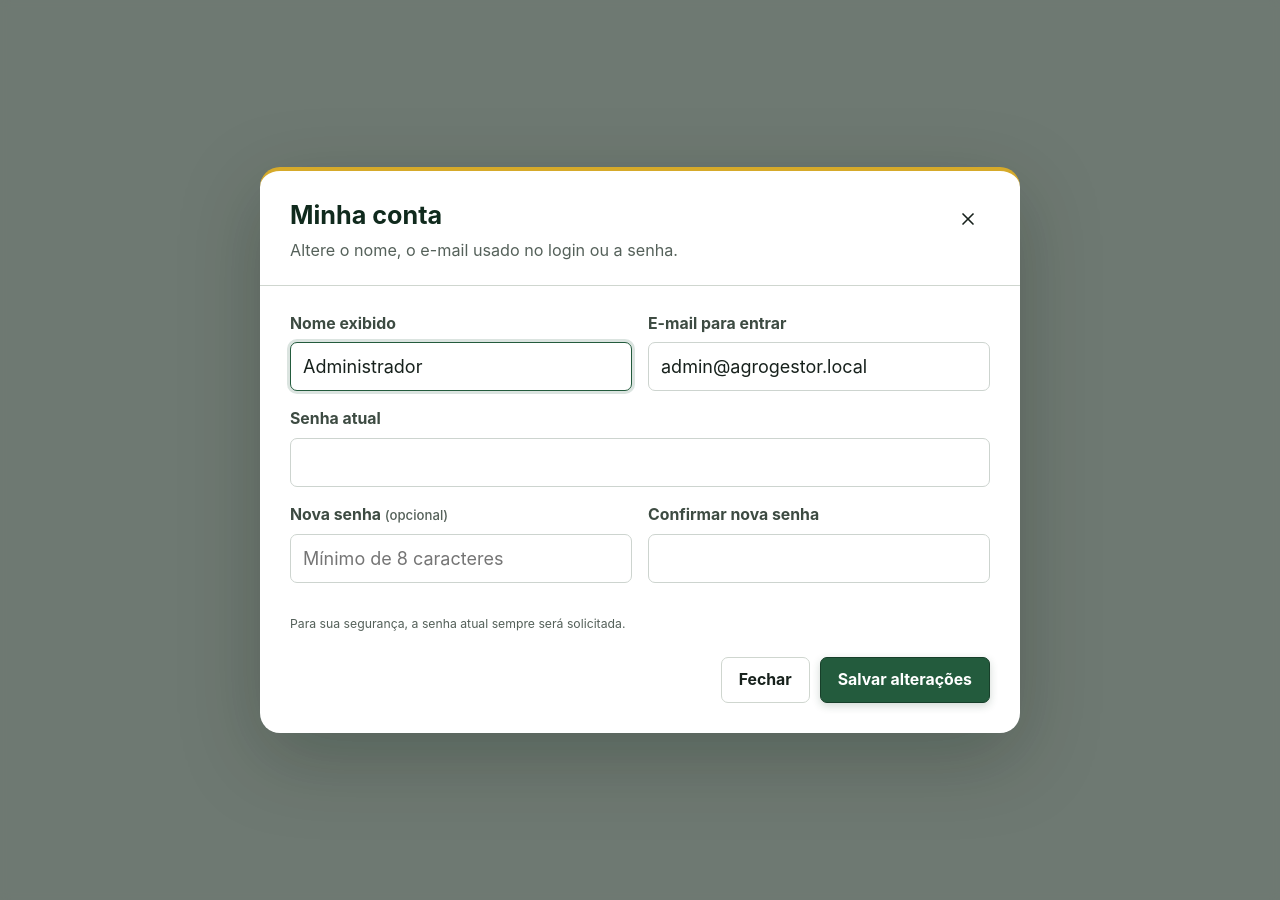
Test: ProfileSettingsModal › envia os dados e limpa as senhas depois de salvar
Step 1. Replace the text in the field labelled "E-mail para entrar" with "rodrigo@agro.local" → (819, 367), box [648,342,990,392]
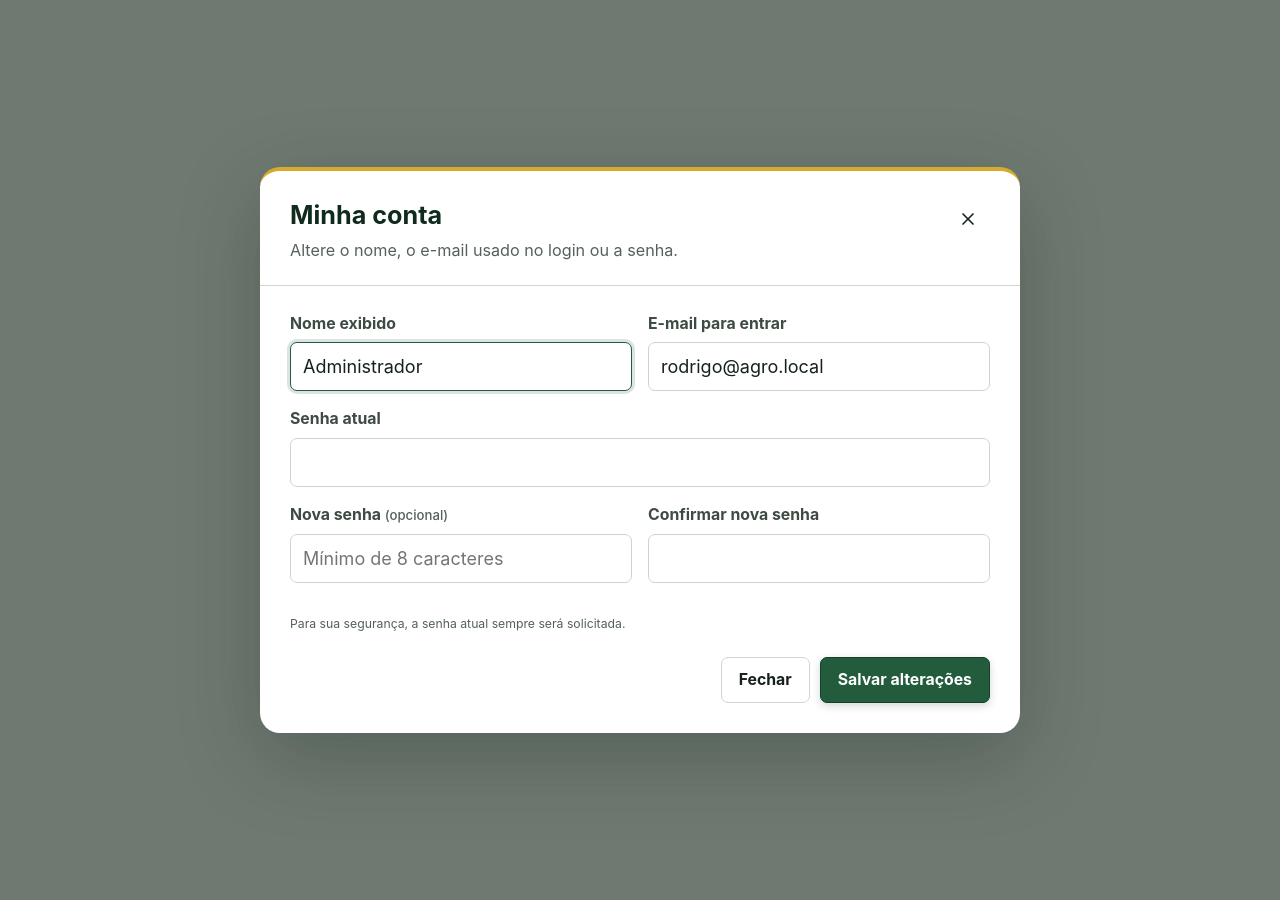
Step 2. Type "senha-atual" into the password field labelled "Senha atual" → (640, 463), box [290,438,990,487]
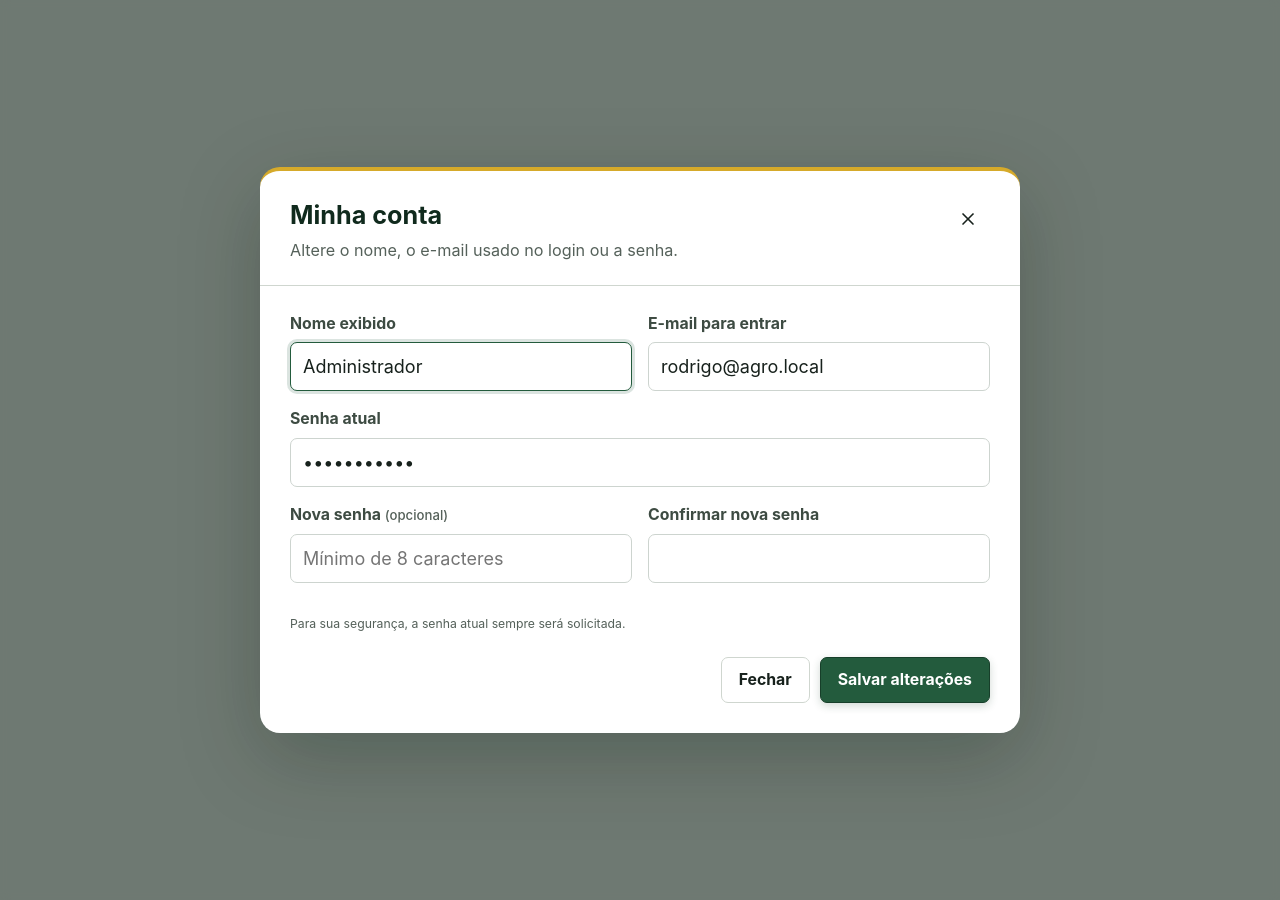
Step 3. Click the button "Salvar alterações" → (905, 680), box [820,657,990,703]
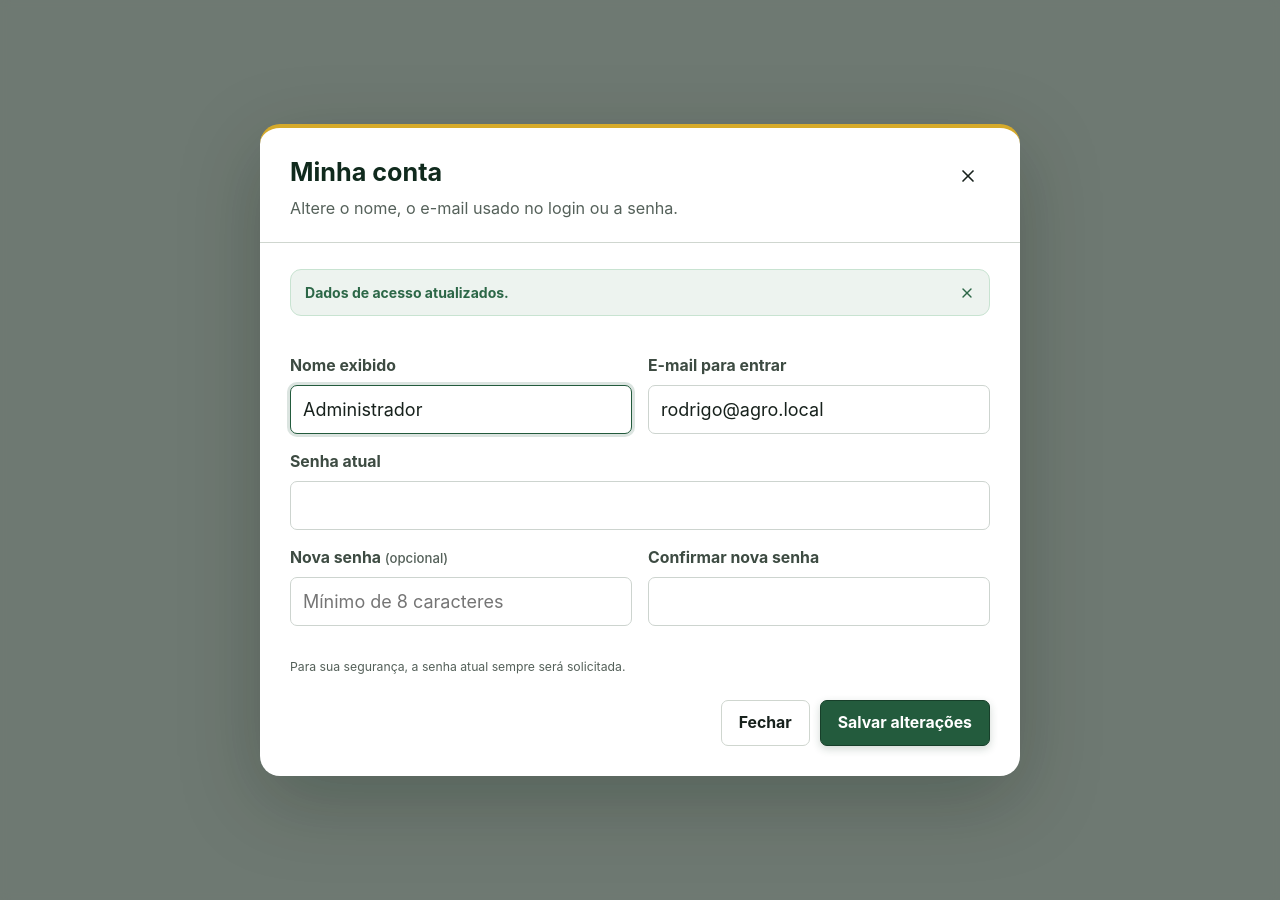
Expected: the text "Dados de acesso atualizados." is shown, [305,284,509,301]
Expected: the password field labelled "Senha atual" is empty, [290,481,990,530]
